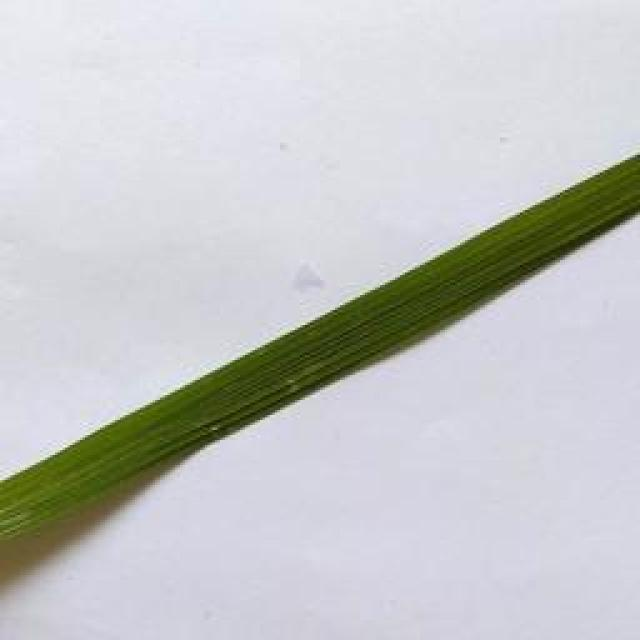Healthy-Plant: (0, 157, 640, 545)
